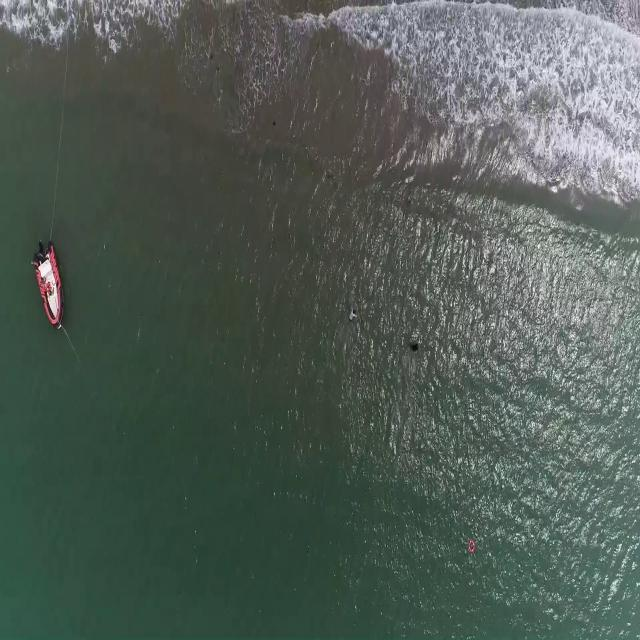boat: (33, 240, 63, 328)
life_buoy: (468, 538, 476, 552)
person: (348, 302, 362, 323), (410, 337, 419, 356)
